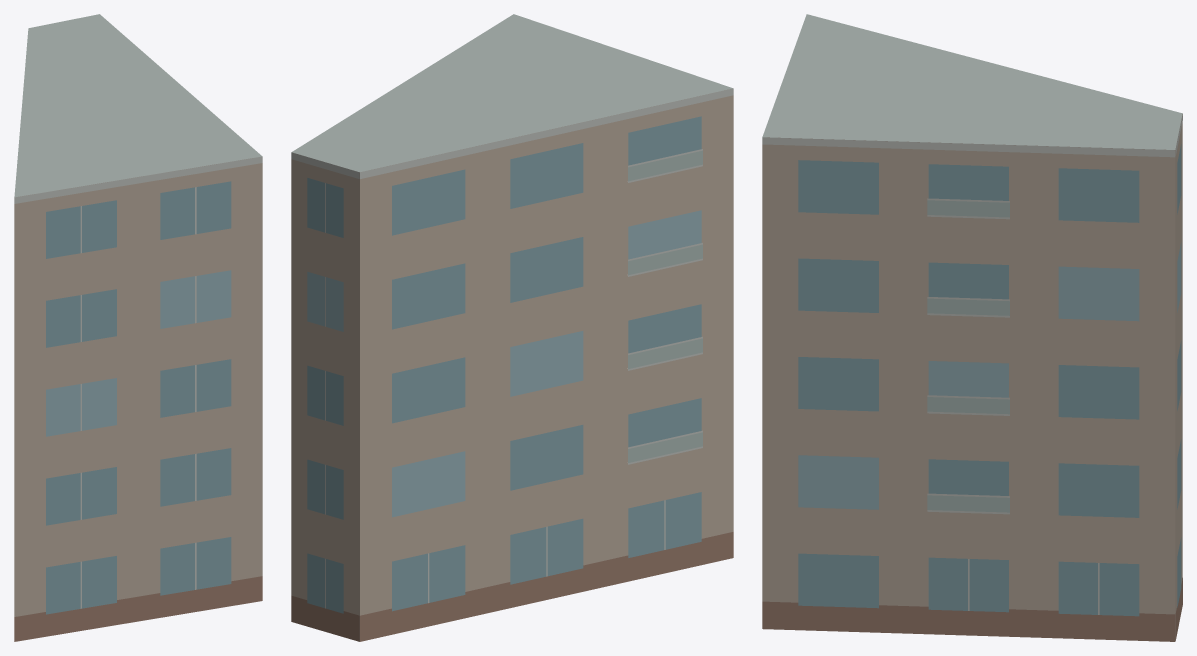
Rendered from survey-upis-32869581.glb.
3 views of the same model, side by side, from view 1: azimuth 30°, elevation 25°; view 2: azimuth 150°, elevation 25°; view 3: azimuth 270°, elevation 25° (orthographic). The views are drawn at different scales.
Visible parts, largest first — view 1: survey-upis-32869581.tmp; view 2: survey-upis-32869581.tmp; view 3: survey-upis-32869581.tmp.
Part boxes in pixels (left/top/right/bottom): survey-upis-32869581.tmp: left=14, top=14, right=262, bottom=641; survey-upis-32869581.tmp: left=291, top=14, right=733, bottom=641; survey-upis-32869581.tmp: left=762, top=14, right=1182, bottom=641.
Bounding box in the file's own units: 9.81 × 16.52 × 12.81.
